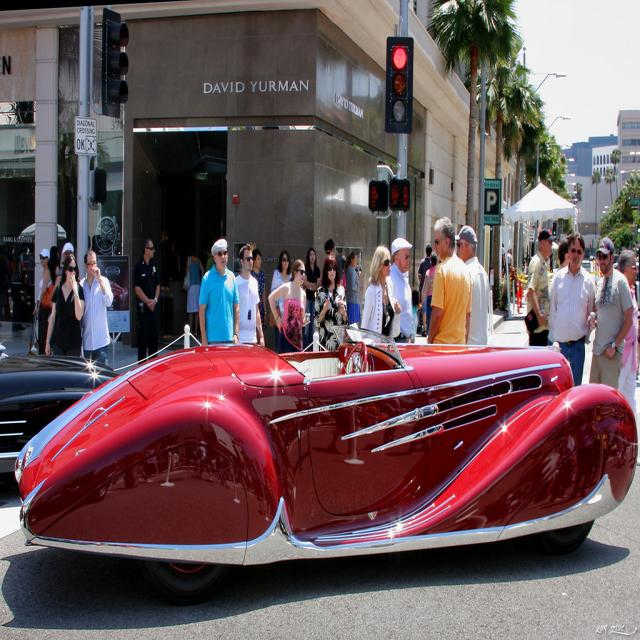car: (13, 320, 638, 565)
